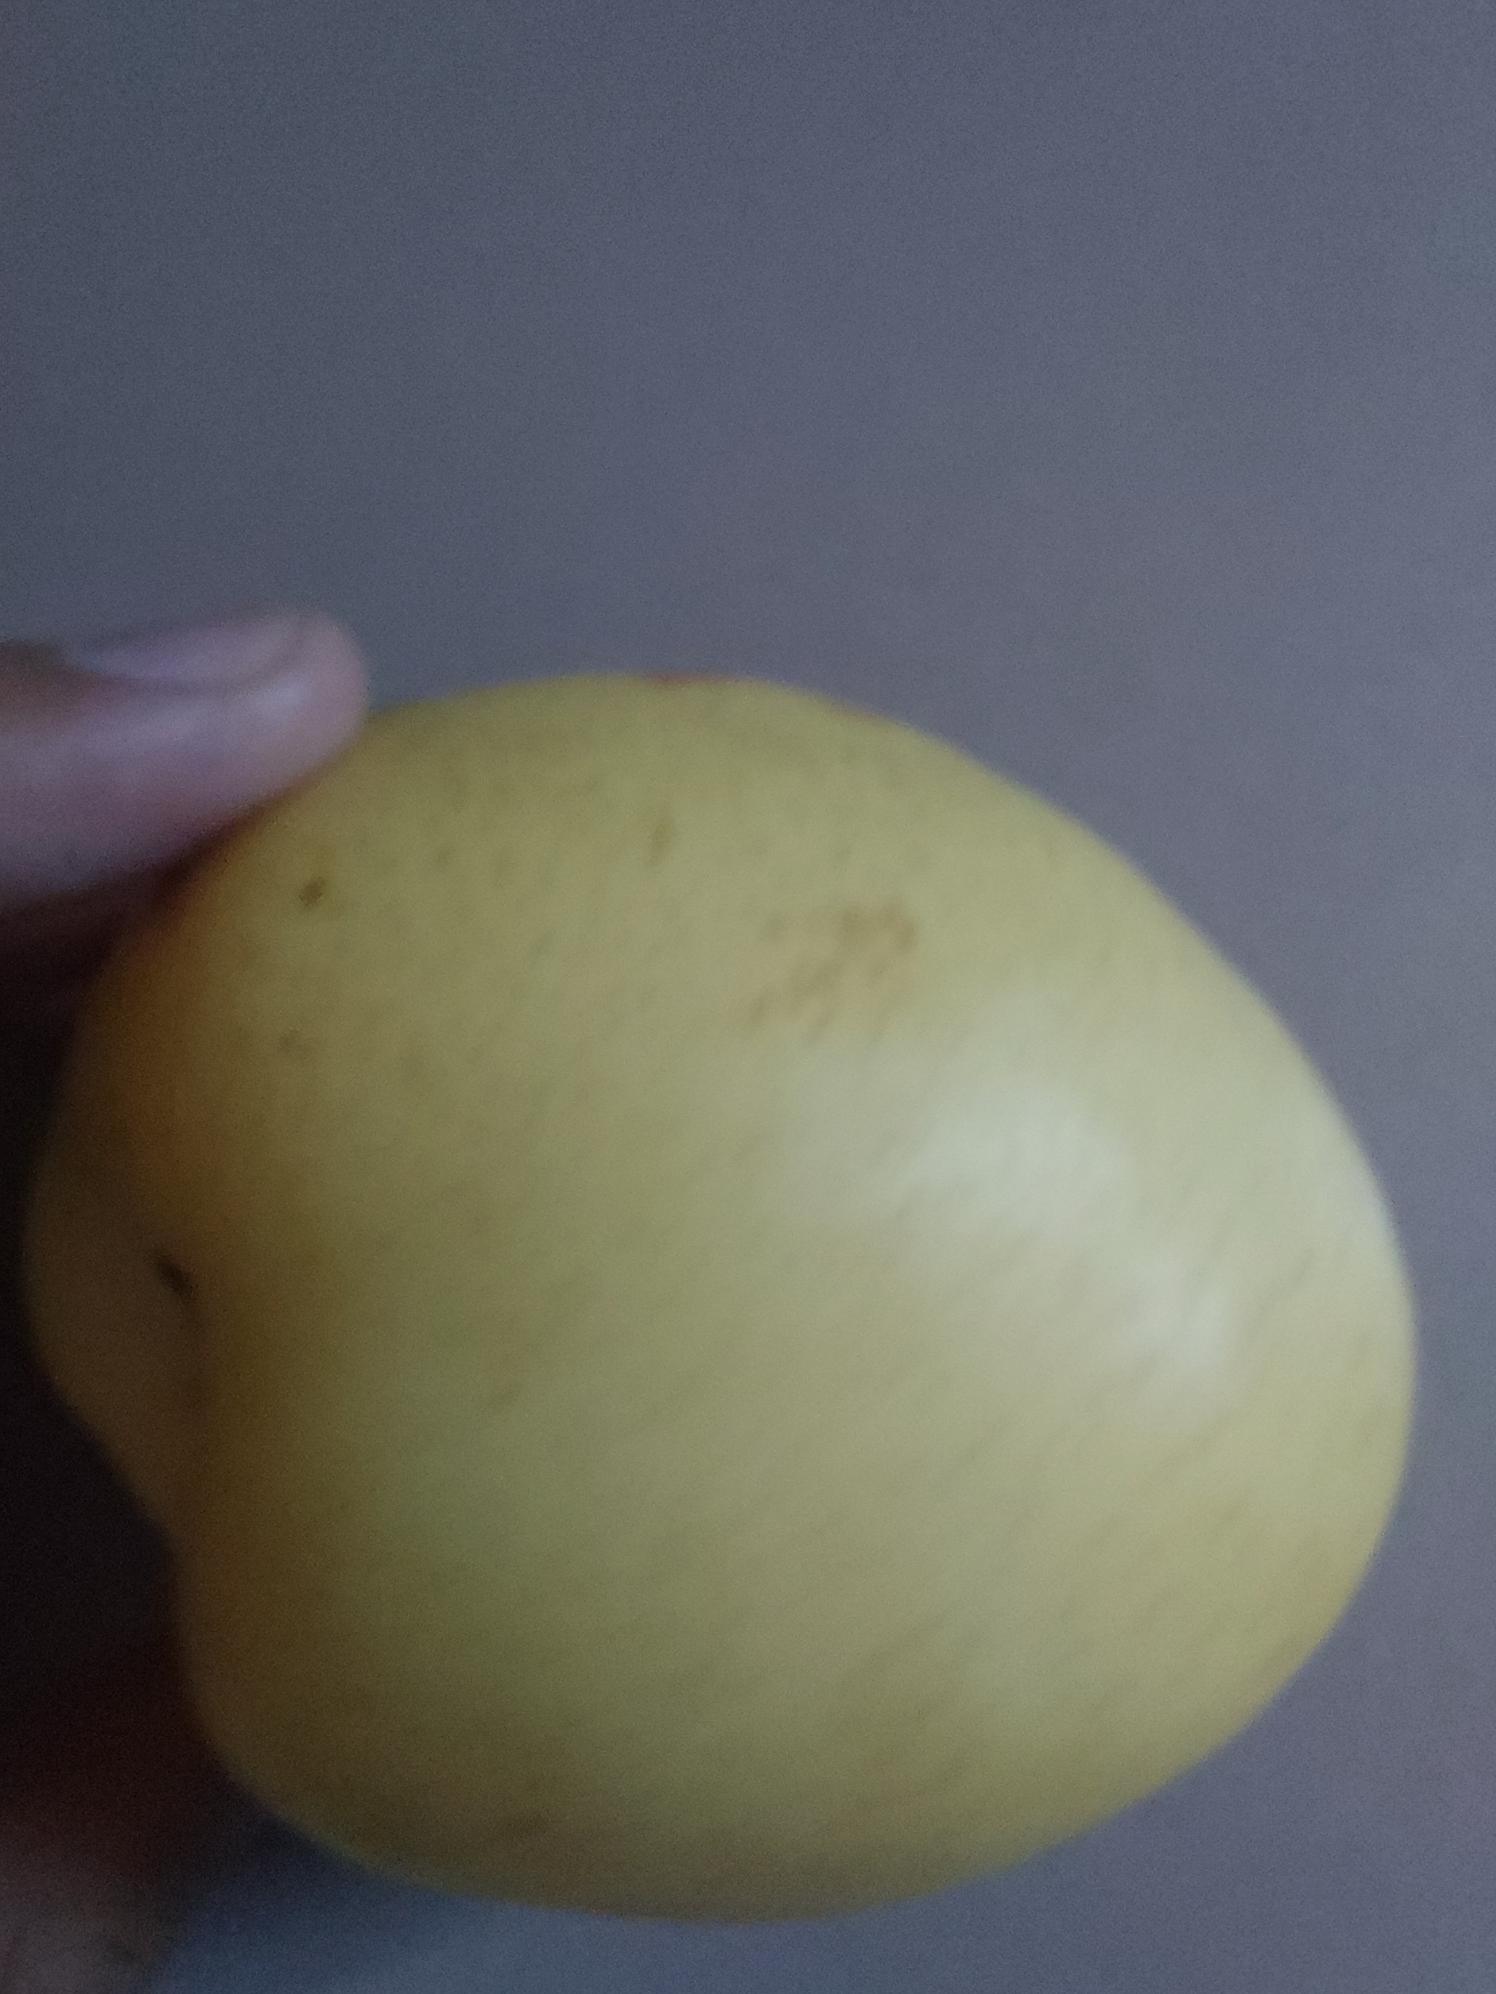Good Pear: (25, 647, 1421, 1934)
